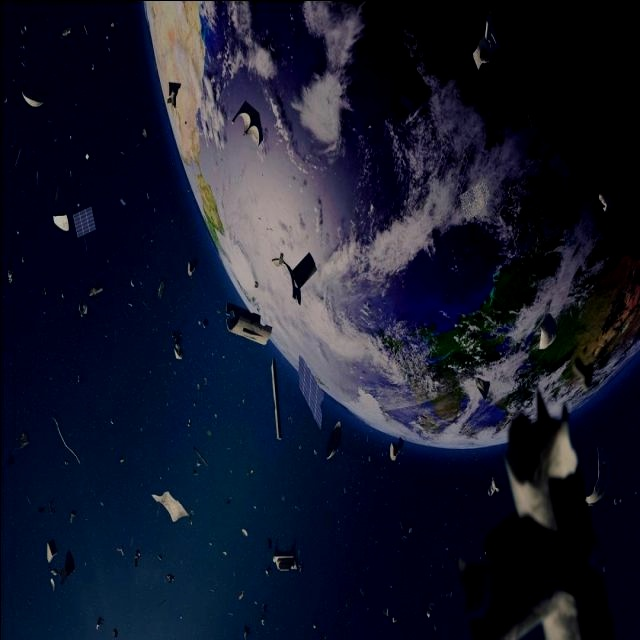large_debris: (456, 389, 616, 640), (270, 248, 317, 307), (296, 352, 327, 435), (224, 298, 272, 347), (472, 8, 504, 70), (583, 445, 610, 517), (262, 533, 303, 578), (150, 492, 193, 532), (231, 101, 266, 149), (456, 178, 494, 220), (52, 417, 82, 470), (72, 207, 98, 251), (537, 305, 559, 356), (51, 182, 71, 233), (270, 359, 282, 444), (569, 352, 595, 391), (326, 411, 343, 469), (59, 544, 77, 592), (169, 326, 189, 364), (18, 85, 46, 111), (484, 467, 503, 502), (593, 188, 615, 217), (191, 448, 209, 479), (397, 520, 416, 549), (425, 599, 440, 635), (399, 90, 417, 117), (19, 25, 30, 68), (166, 79, 181, 109), (388, 437, 406, 462), (475, 374, 490, 403), (523, 97, 535, 133), (17, 428, 32, 456), (44, 535, 57, 567), (86, 284, 107, 301), (2, 448, 17, 468), (186, 258, 200, 279), (611, 493, 625, 514), (94, 609, 104, 638), (12, 142, 23, 168), (383, 607, 396, 629), (7, 258, 15, 293), (258, 601, 268, 628), (77, 298, 88, 322), (197, 373, 208, 396), (156, 277, 166, 302), (68, 505, 78, 530), (196, 314, 211, 329), (34, 168, 43, 193), (239, 622, 251, 640), (49, 570, 58, 594), (165, 571, 176, 590), (184, 413, 192, 439), (61, 22, 72, 40), (106, 34, 115, 56), (235, 587, 246, 605), (110, 622, 121, 639), (238, 524, 249, 541), (366, 123, 376, 141), (132, 545, 140, 567), (600, 562, 608, 583), (36, 500, 44, 521), (47, 492, 54, 515), (116, 543, 126, 559), (357, 586, 366, 603), (40, 282, 48, 301), (127, 276, 137, 290), (118, 195, 128, 208), (20, 186, 27, 204), (118, 455, 127, 469), (82, 23, 89, 39), (108, 414, 115, 429), (156, 550, 163, 565), (82, 150, 90, 163), (2, 91, 8, 107), (142, 125, 148, 139), (226, 499, 234, 509), (253, 281, 259, 294), (89, 62, 96, 72), (53, 133, 58, 144)
